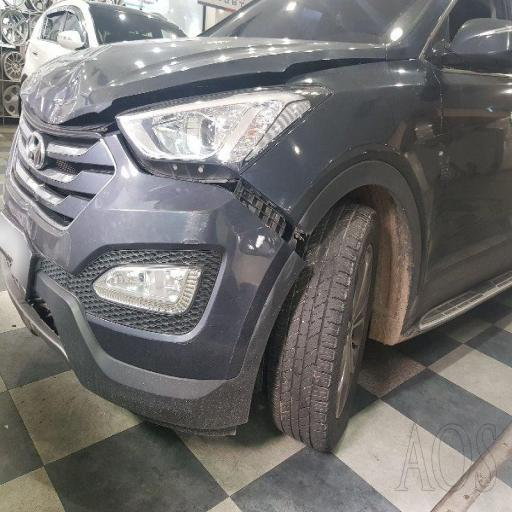broken: (150, 74, 314, 278)
dent: (41, 63, 100, 122)
